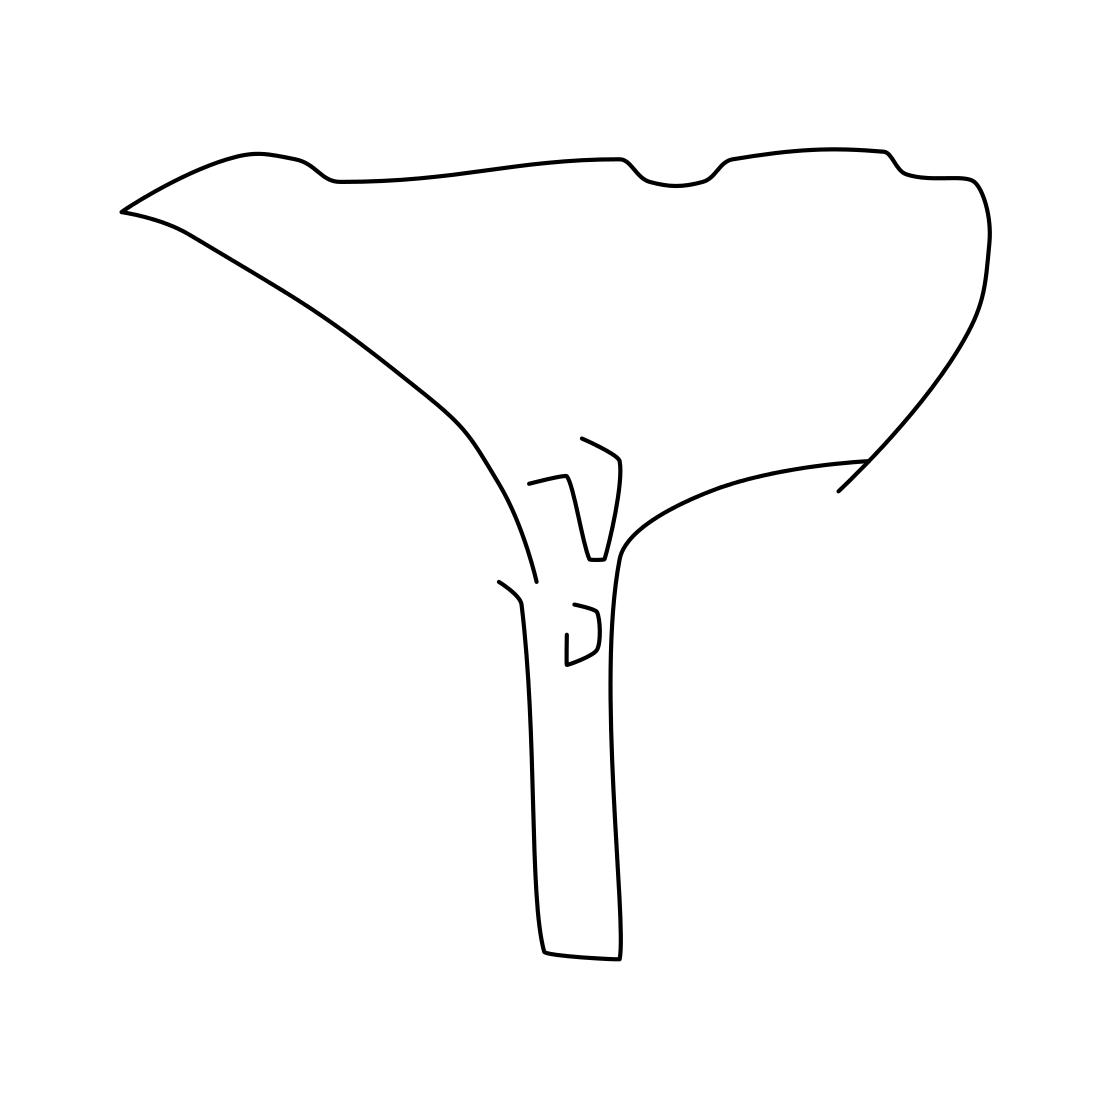Tree: (96, 87, 1001, 994)
